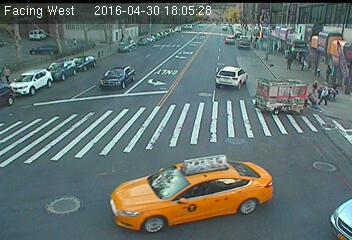neg: (252, 71, 291, 123), (23, 89, 56, 133), (118, 154, 150, 197), (133, 92, 162, 130), (62, 61, 88, 96), (209, 60, 234, 94), (199, 154, 220, 182), (44, 187, 65, 215), (309, 152, 327, 177), (199, 113, 216, 136), (282, 47, 298, 69), (191, 55, 207, 77), (310, 78, 320, 92)
pos: (1, 61, 18, 83), (319, 83, 333, 103)
